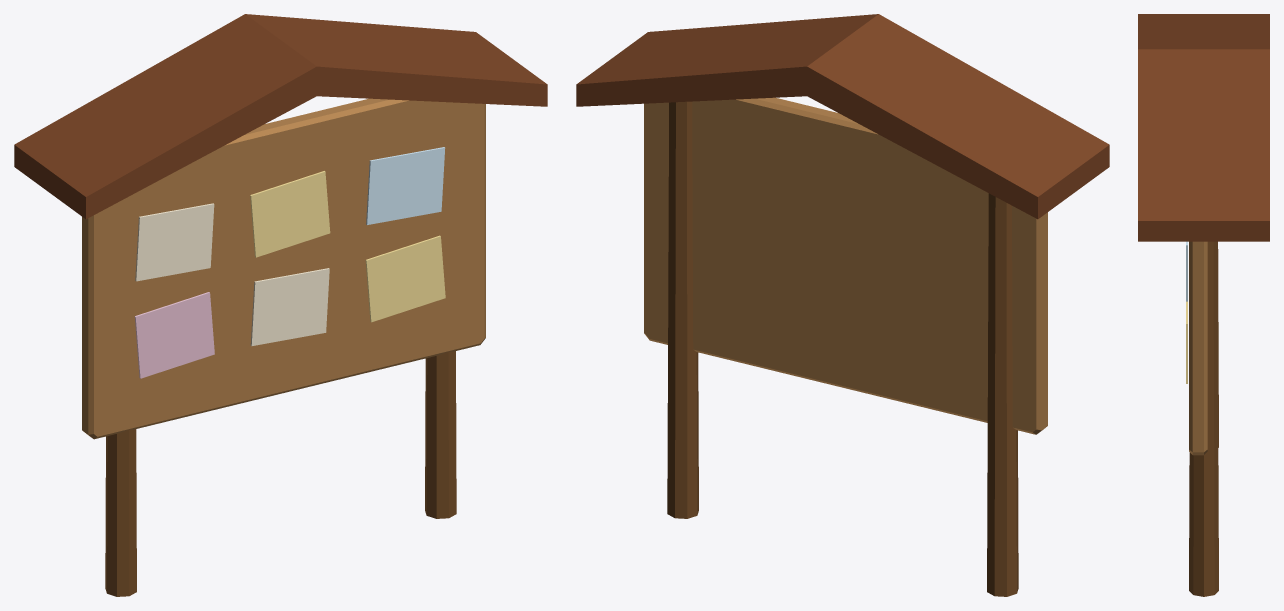
The model's file is board.glb.
3 views of the same model, side by side, from view 1: azimuth 30°, elevation 25°; view 2: azimuth 150°, elevation 25°; view 3: azimuth 270°, elevation 25° (orthographic). The views are drawn at different scales.
Parts seen in each view (by area): view 1: board_wood, board_plain; view 2: board_wood, board_plain; view 3: board_plain, board_wood.
Boxes of the visible parts, x1,y1,x2,y2 form: board_wood: (82,98,485,596); board_plain: (14,14,547,378); board_wood: (644,97,1047,596); board_plain: (576,14,1109,219); board_plain: (1138,14,1269,383); board_wood: (1189,241,1218,596).
Bounding box in the file's own units: 2.6 × 2.75 × 0.6999.
